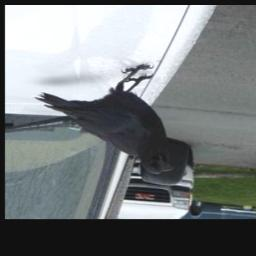Crow: (36, 63, 172, 176)
